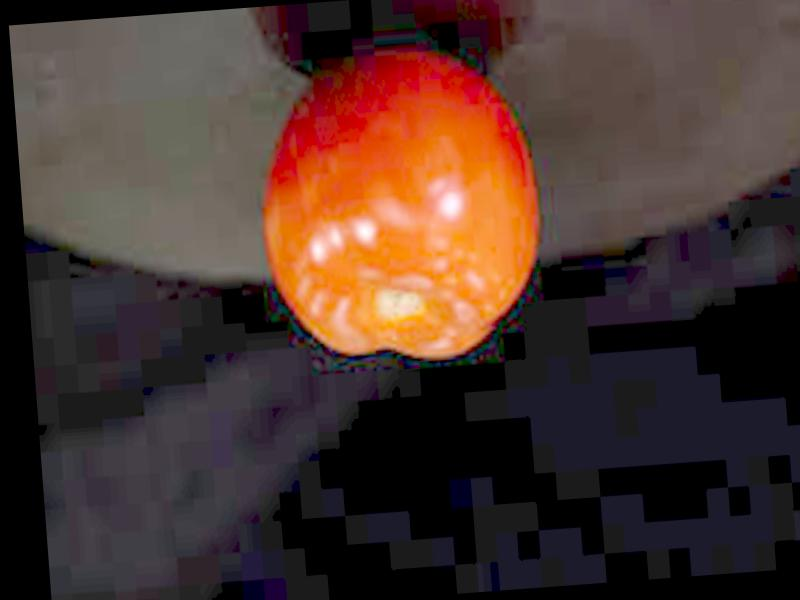Tomato: (253, 47, 552, 370)
